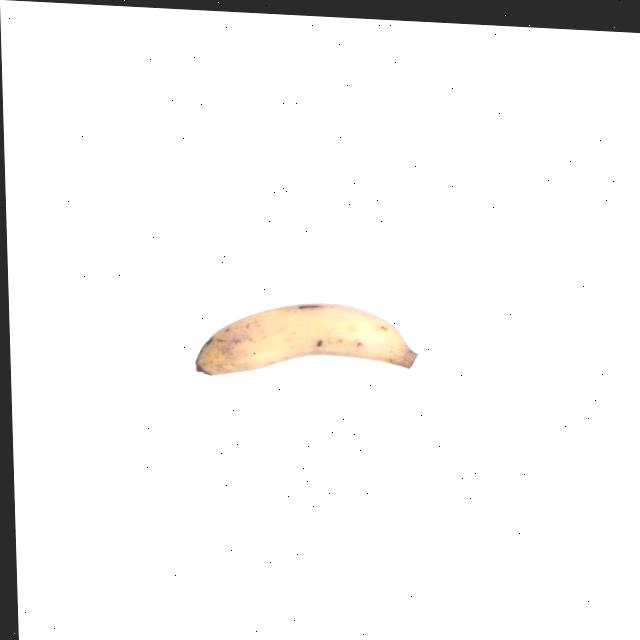banana: (189, 293, 420, 390)
